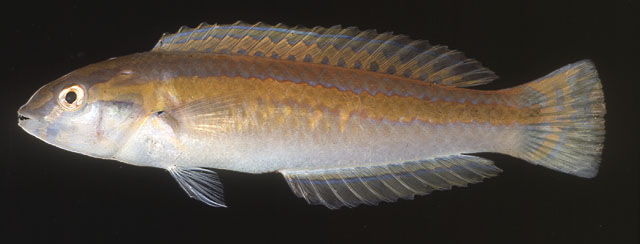fish: (17, 19, 608, 210)
